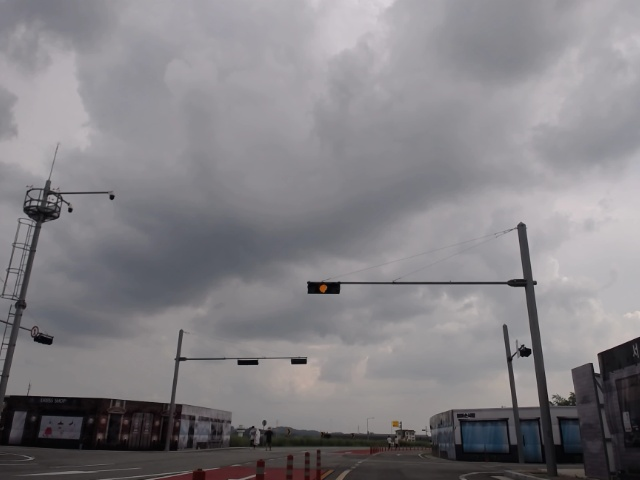orange_3: (307, 281, 340, 295)
